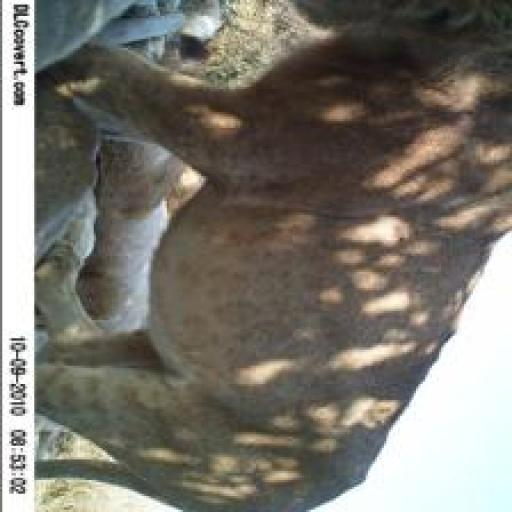lion: (37, 2, 505, 512)
